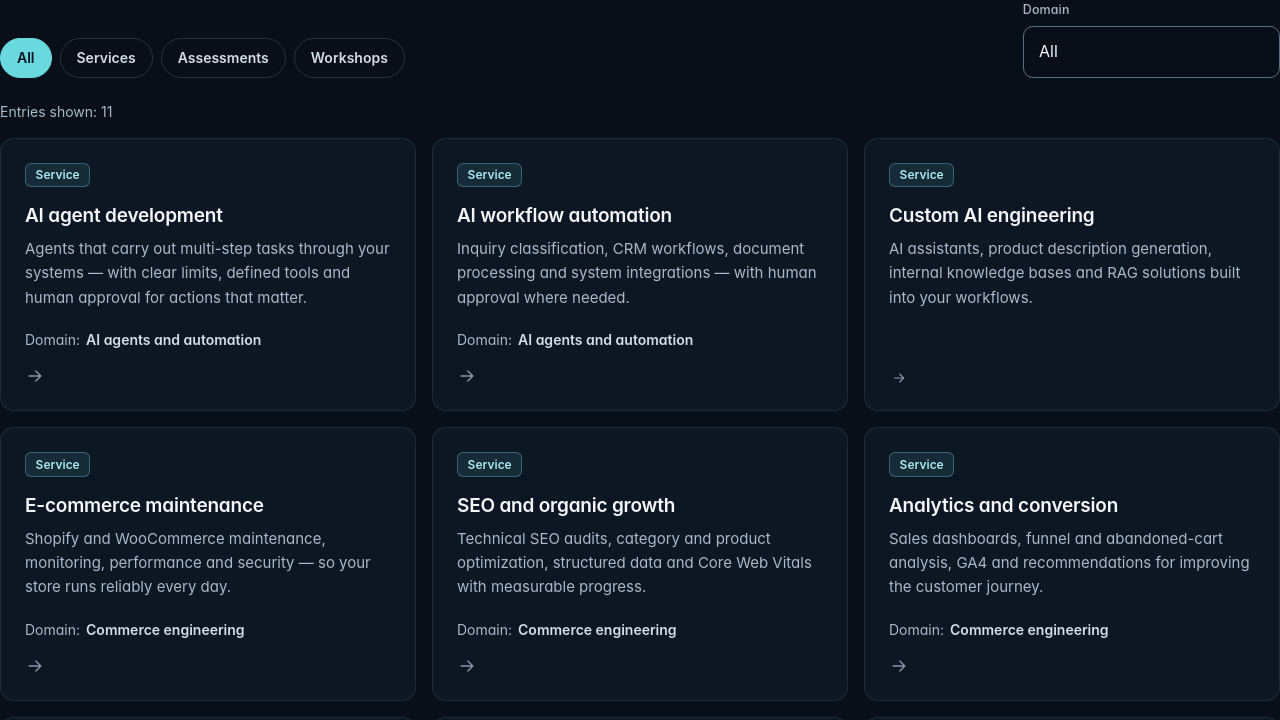
Test: catalogue browser › offers only the domains and types that have entries, and an empty state with a reset
Click the button "Assessments" at (223, 58), box [161,38,286,78]
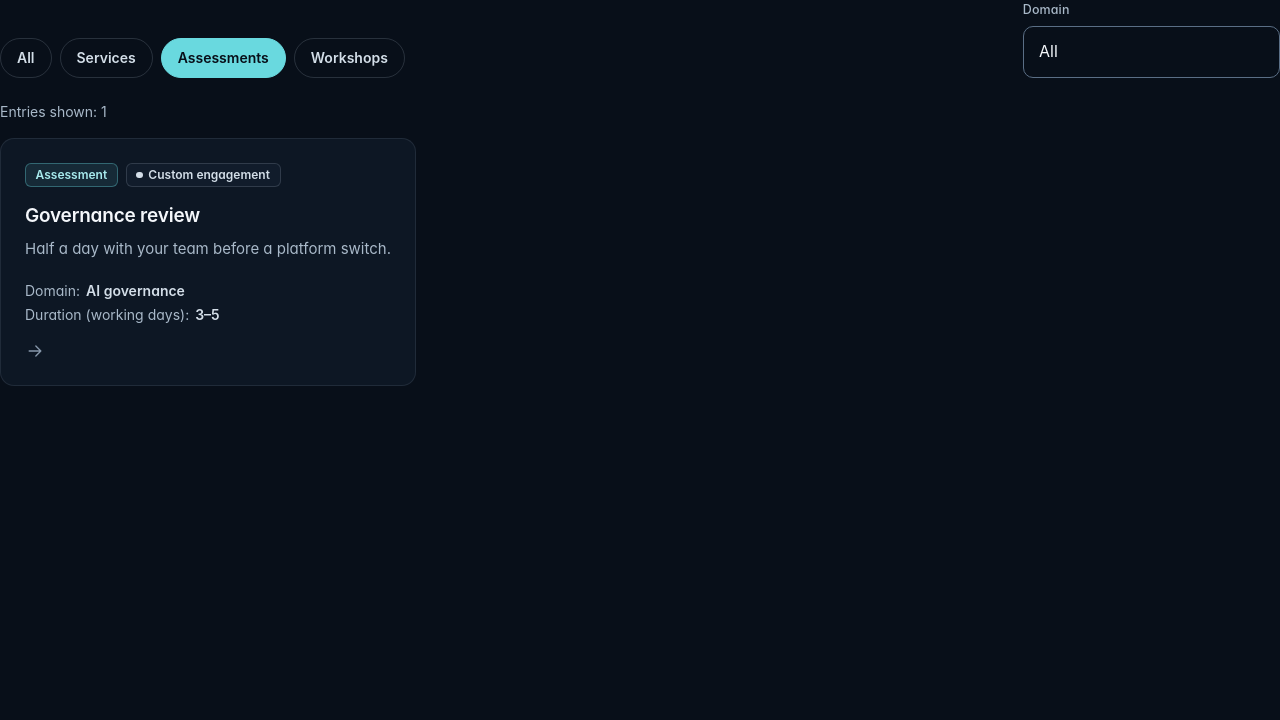
Select "Commerce engineering" in the dropdown labelled "Domain" at (1151, 52), box [1023,26,1279,78]
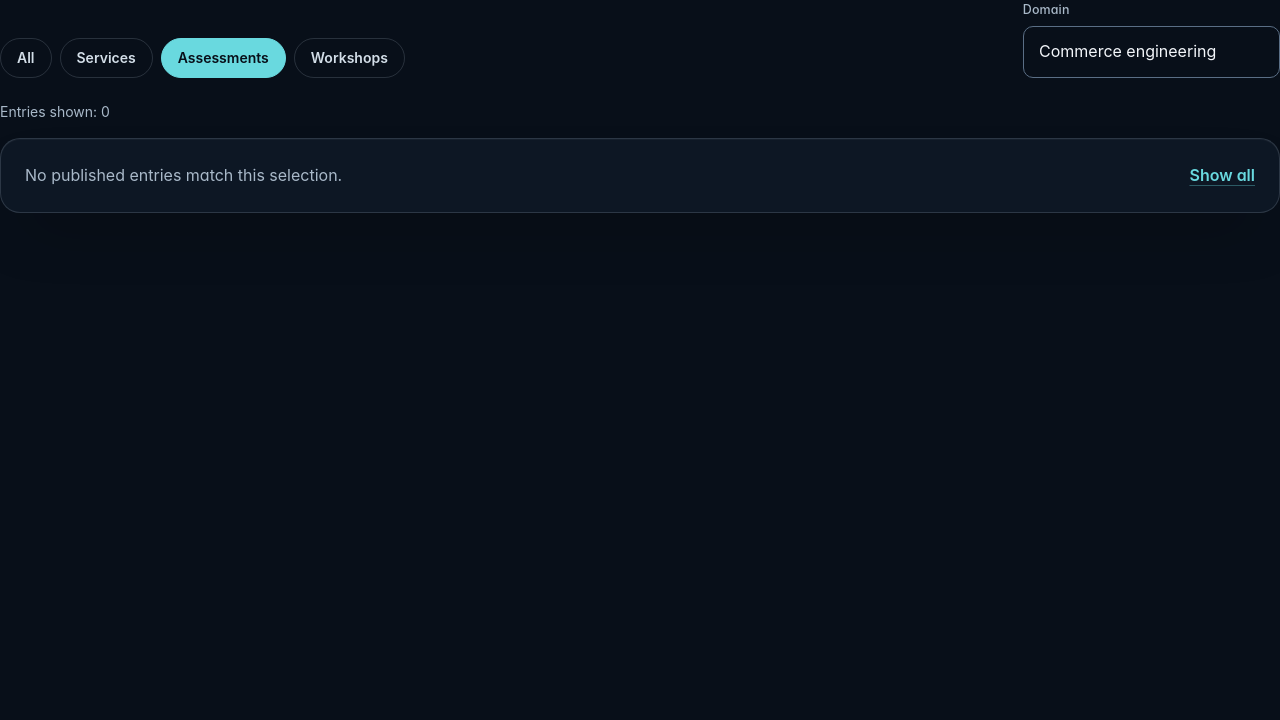
Now the text "No published entries match this selection." is shown, box [25,163,342,188]
Now no elements with test id "offering-card" are shown
Click the button "Show all" at (1222, 175), box [1190,163,1255,188]
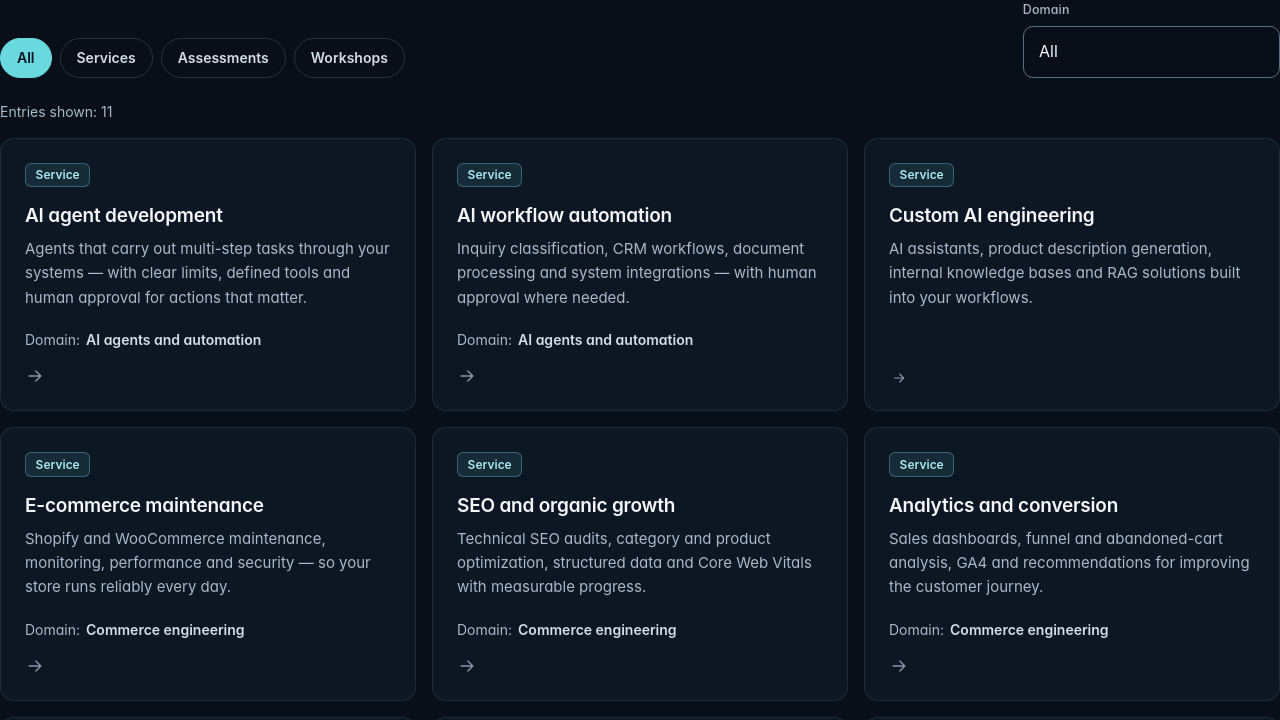
Now the number of elements with test id "offering-card" is 11
